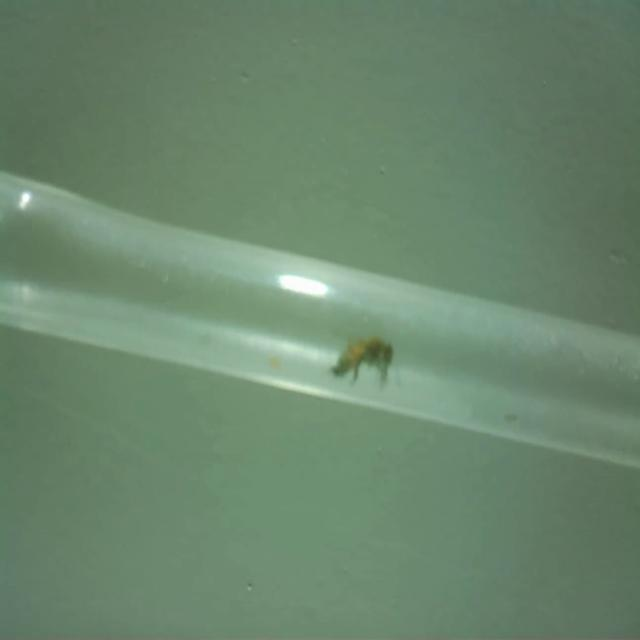Honeybee-Detection: (329, 333, 396, 388)
